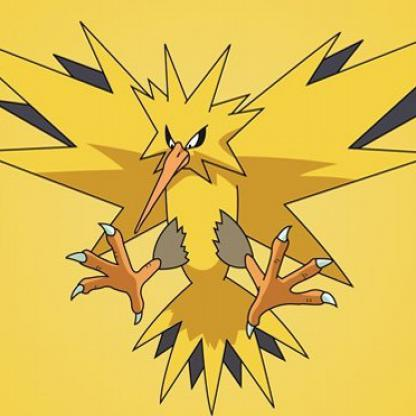Zapdos: (1, 3, 416, 416)
